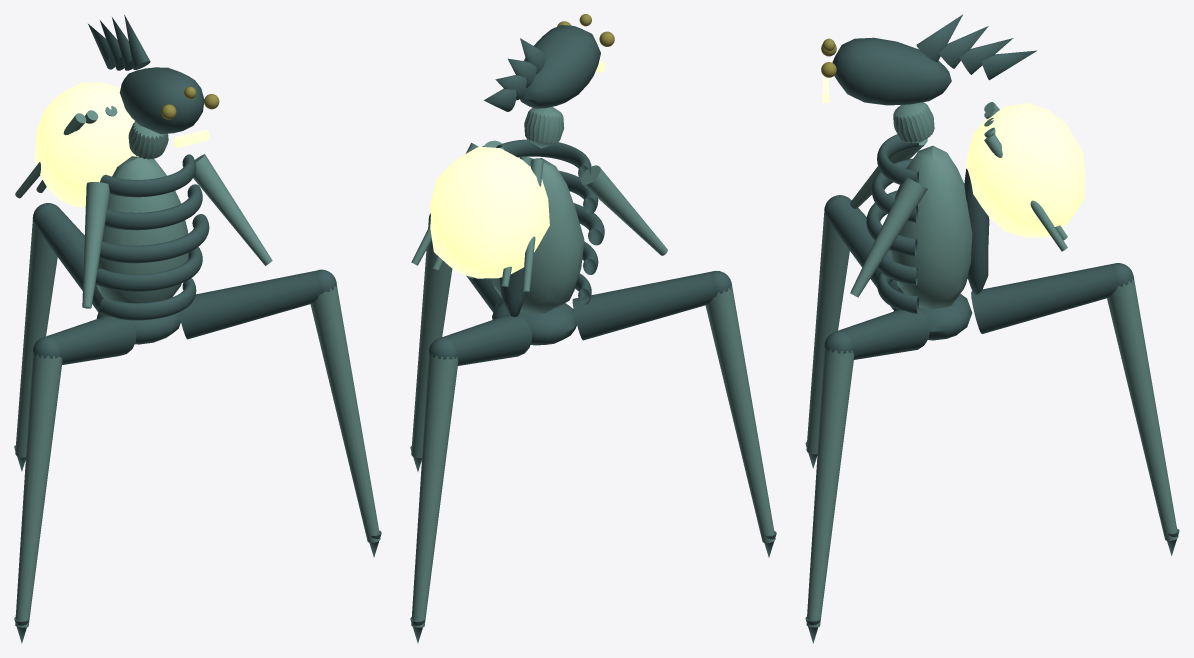
File: Spitter.fbx
The picture shows the model from 3 angles, left to right: view 1: azimuth 30°, elevation 25°; view 2: azimuth 150°, elevation 25°; view 3: azimuth 270°, elevation 25°; orthographic projection. The views are drawn at different scales.
Parts seen in each view (by area): view 1: Body, Leg_0, Leg_2, Sac, Leg_1; view 2: Body, Sac, Leg_2, Leg_1, Leg_0; view 3: Body, Sac, Leg_1, Leg_0, Leg_2.
Boxes of the visible parts, <box> form: Body: <box>82,15,272,344</box>; Leg_0: <box>179,269,381,557</box>; Leg_2: <box>14,316,136,643</box>; Sac: <box>15,82,138,207</box>; Leg_1: <box>14,203,103,471</box>; Body: <box>484,14,667,345</box>; Sac: <box>411,143,549,291</box>; Leg_2: <box>572,270,776,557</box>; Leg_1: <box>410,314,531,643</box>; Leg_0: <box>410,213,503,471</box>; Body: <box>821,14,1036,340</box>; Sac: <box>965,102,1085,251</box>; Leg_1: <box>971,263,1179,555</box>; Leg_0: <box>805,310,929,643</box>; Leg_2: <box>805,195,903,468</box>.
Bounding box in the file's own units: 1.37 × 1.9 × 1.19.
